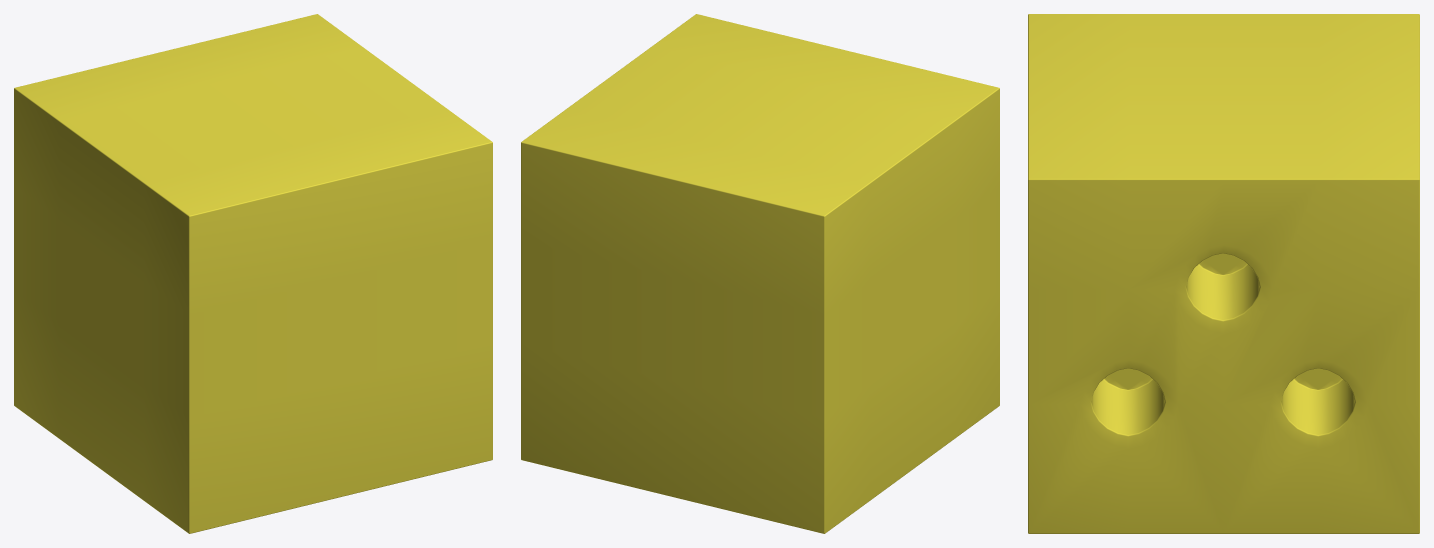
Rendered from StorageBox.fbx.
3 renders of one model, left to right at view 1: azimuth 30°, elevation 25°; view 2: azimuth 150°, elevation 25°; view 3: azimuth 270°, elevation 25°, orthographic. The views are drawn at different scales.
Visible parts, largest first — view 1: Cube; view 2: Cube; view 3: Cube.
Part boxes in pixels (bbox=[...]): Cube: bbox=[14, 14, 492, 533]; Cube: bbox=[521, 14, 999, 533]; Cube: bbox=[1028, 14, 1419, 533].
Bounding box in the file's own units: 200 × 200 × 200.
